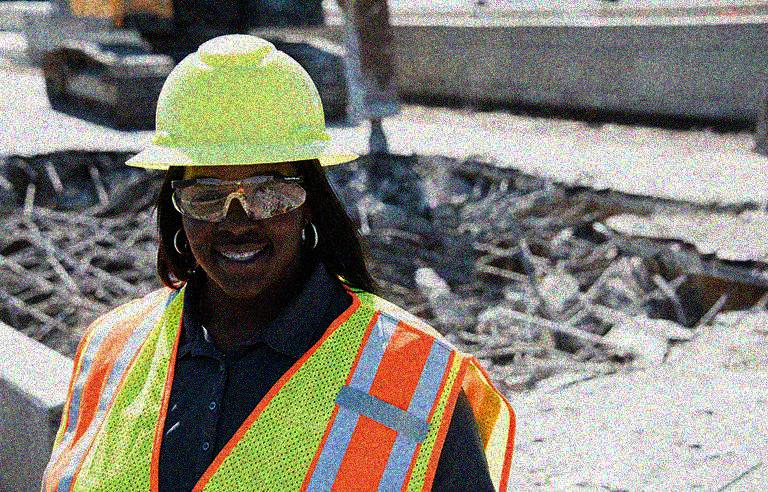helmet: (122, 30, 356, 294)
